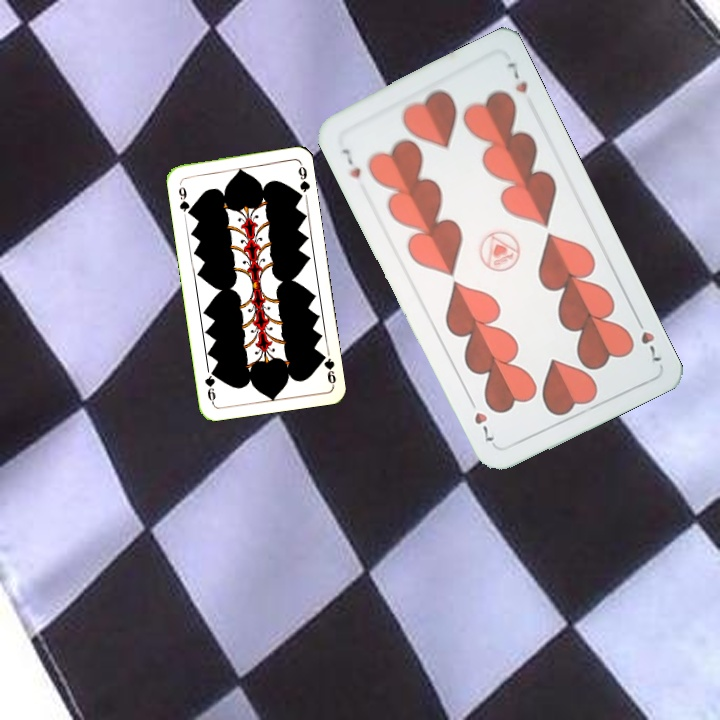G9: (316, 348, 339, 388), (174, 178, 194, 218)
H7: (630, 311, 664, 365), (337, 144, 364, 181)
